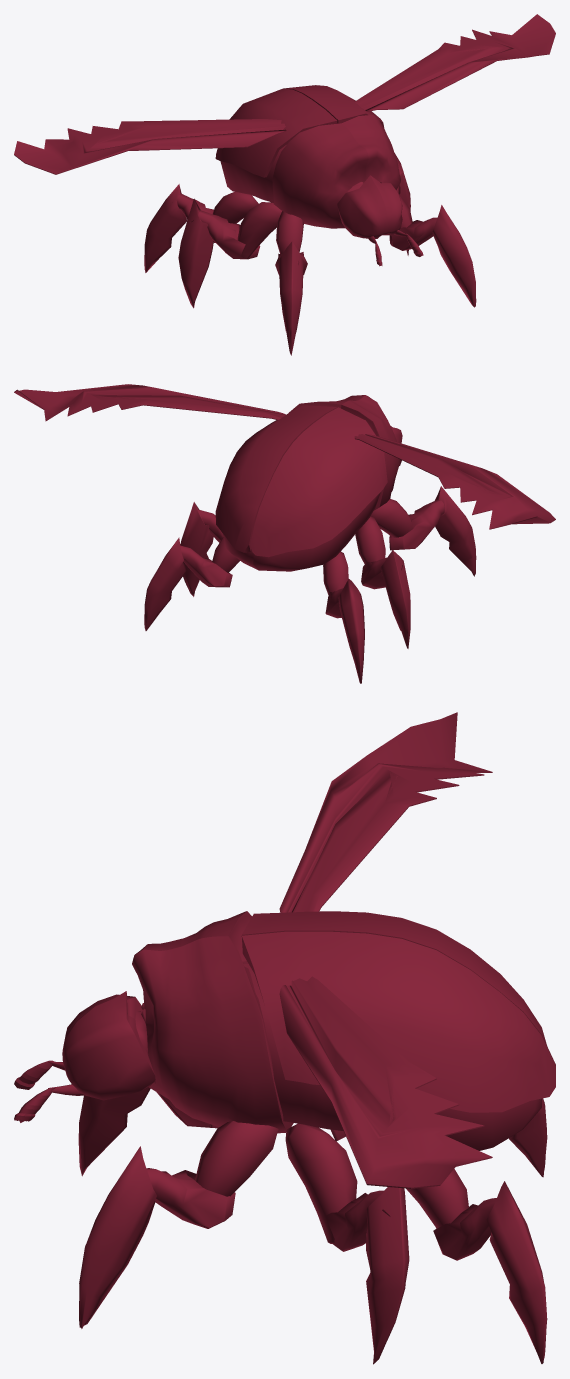
The model's file is Cabrakan.fbx.
The picture shows the model from 3 angles, top to bottom: view 1: azimuth 30°, elevation 25°; view 2: azimuth 150°, elevation 25°; view 3: azimuth 270°, elevation 25°; orthographic projection. The views are drawn at different scales.
Parts seen in each view (by area): view 1: pCube24; view 2: pCube24; view 3: pCube24.
Part boxes in pixels (left/top/right/bottom): pCube24: left=14, top=14, right=555, bottom=355; pCube24: left=14, top=384, right=555, bottom=683; pCube24: left=14, top=712, right=555, bottom=1364.
Bounding box in the file's own units: 623 × 212 × 306.
